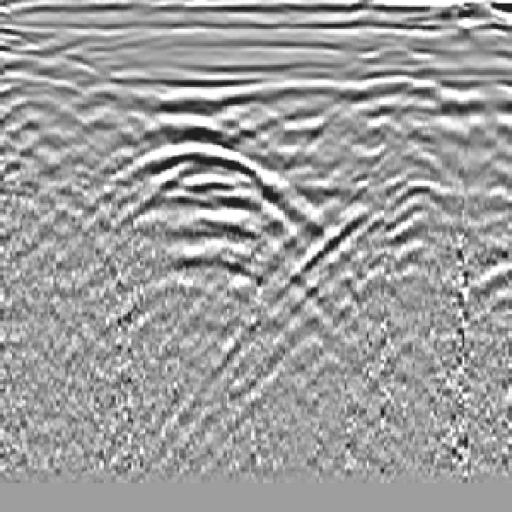metalic: (316, 70, 512, 122)
